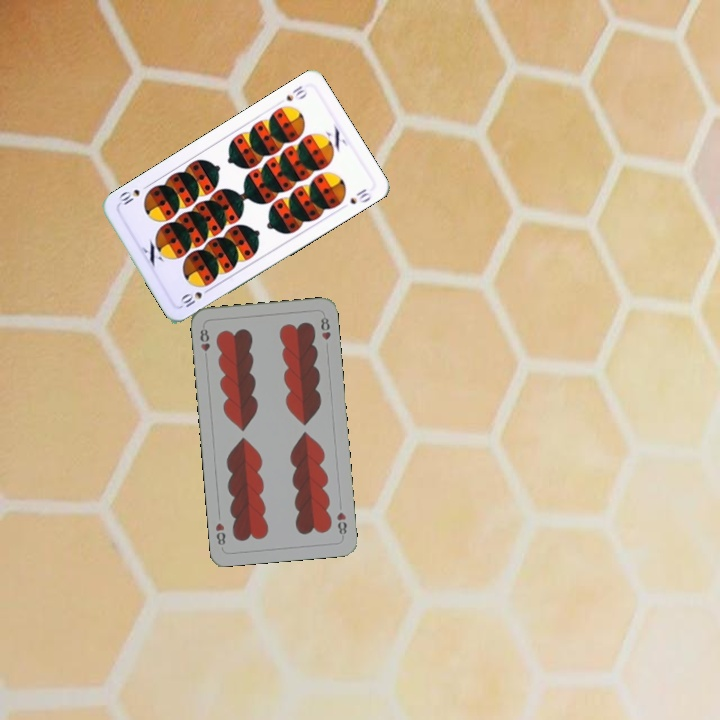H8: (196, 325, 212, 363), (333, 508, 349, 540)
S10: (176, 284, 214, 310), (282, 81, 306, 104)
